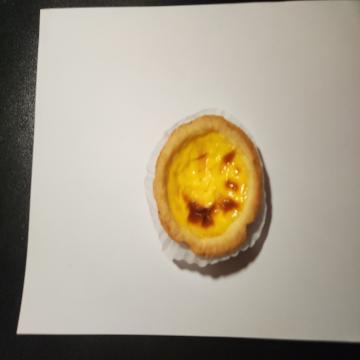EggTart: (152, 114, 263, 259)
